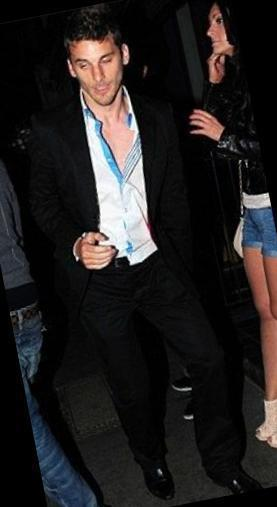Drunk: (70, 37, 122, 105)
